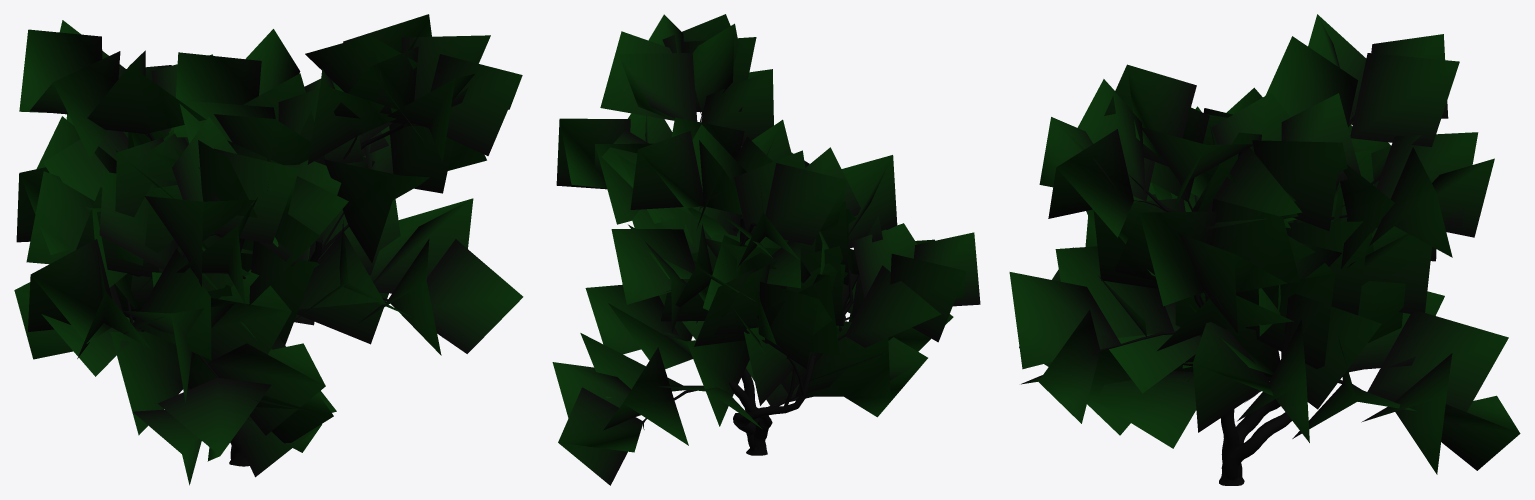
File: TTFE_TreeIt.fbx
3 renders of one model, left to right at view 1: azimuth 30°, elevation 25°; view 2: azimuth 150°, elevation 25°; view 3: azimuth 270°, elevation 25°, orthographic. The views are drawn at different scales.
Parts seen in each view (by area): view 1: TreeItMesh; view 2: TreeItMesh; view 3: TreeItMesh.
Part boxes in pixels (x1,y1,x2,y2): TreeItMesh: [14, 14, 523, 485]; TreeItMesh: [552, 14, 980, 485]; TreeItMesh: [1009, 14, 1520, 485].
Size of the model in its own units: 4.41 by 4.08 by 4.15.
